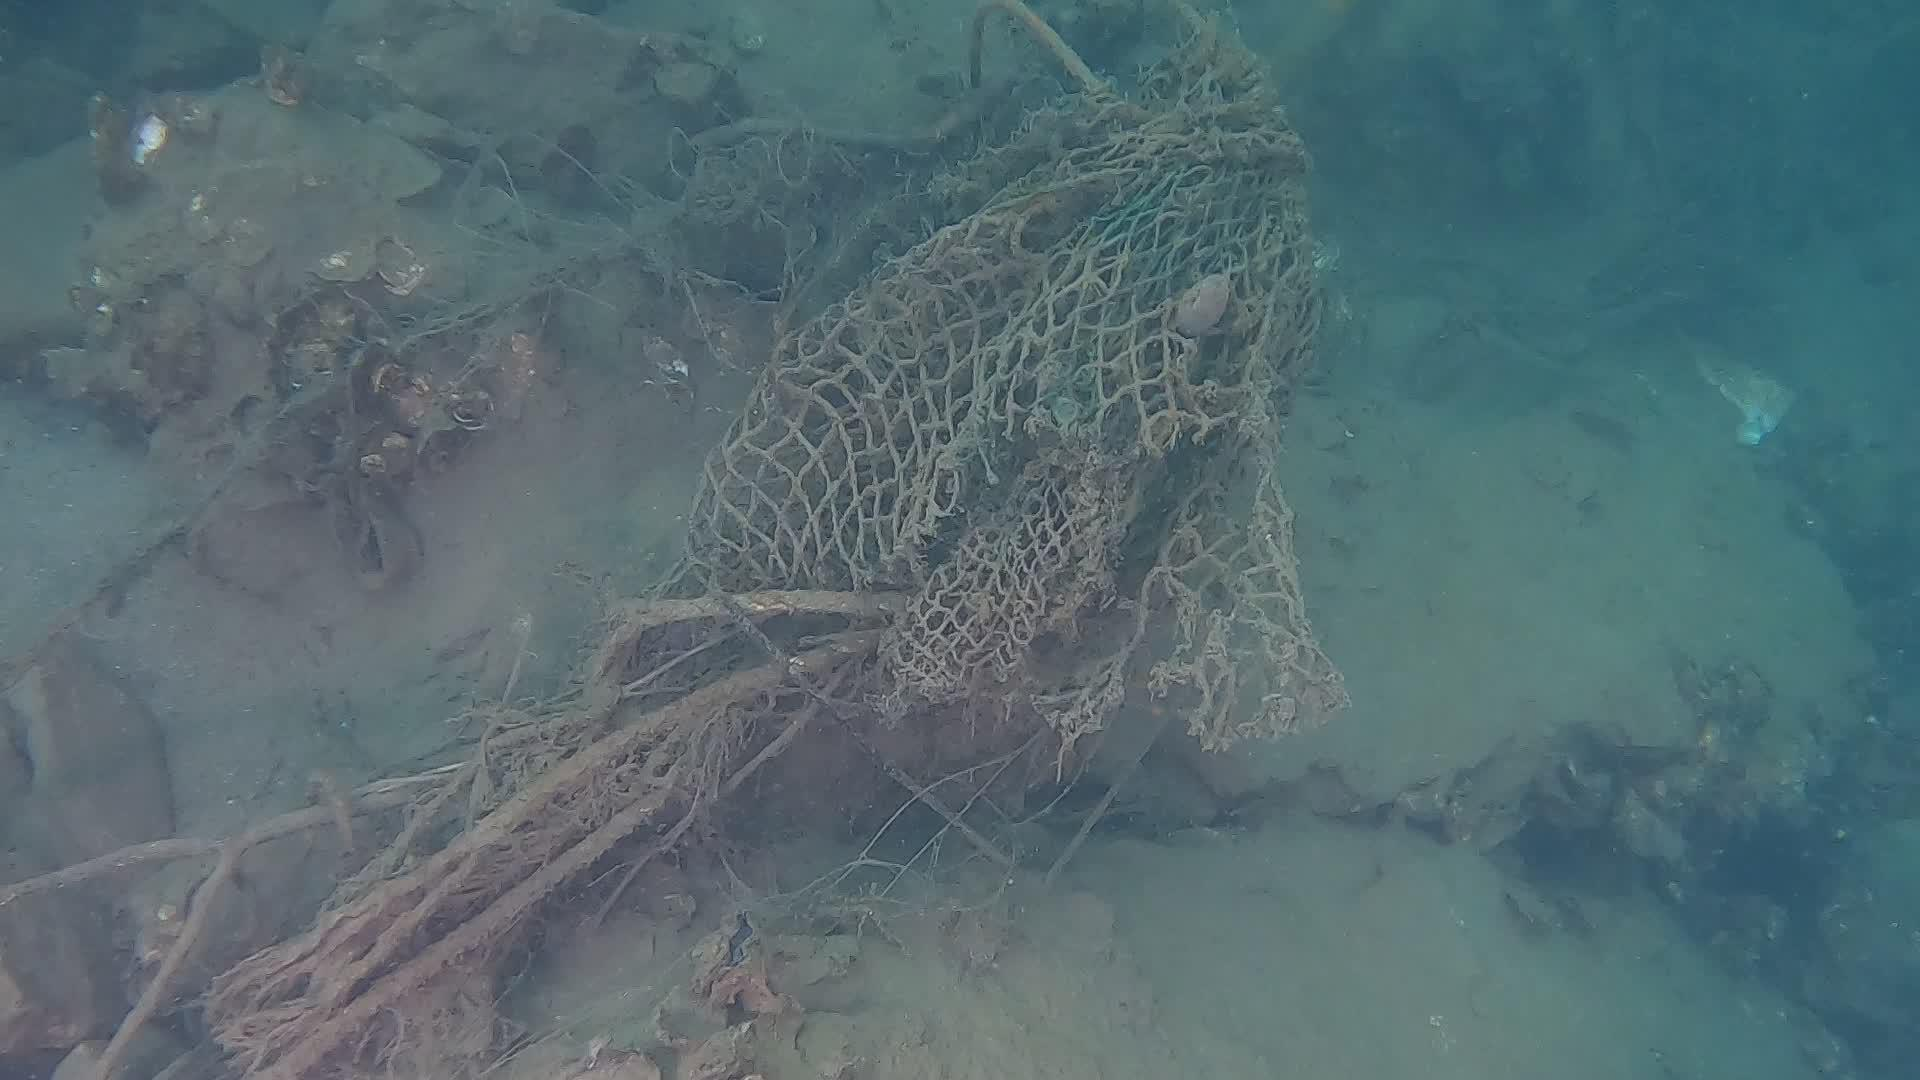fish net: (687, 91, 1325, 695)
